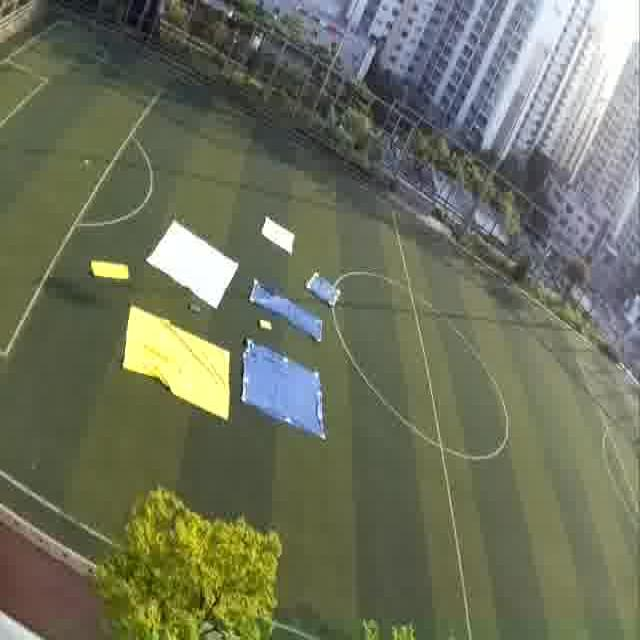danger: (247, 361, 324, 427), (256, 286, 296, 314), (313, 274, 338, 307)
safety: (165, 230, 236, 290), (262, 221, 299, 253)
warning: (132, 332, 230, 404), (91, 266, 126, 282)
